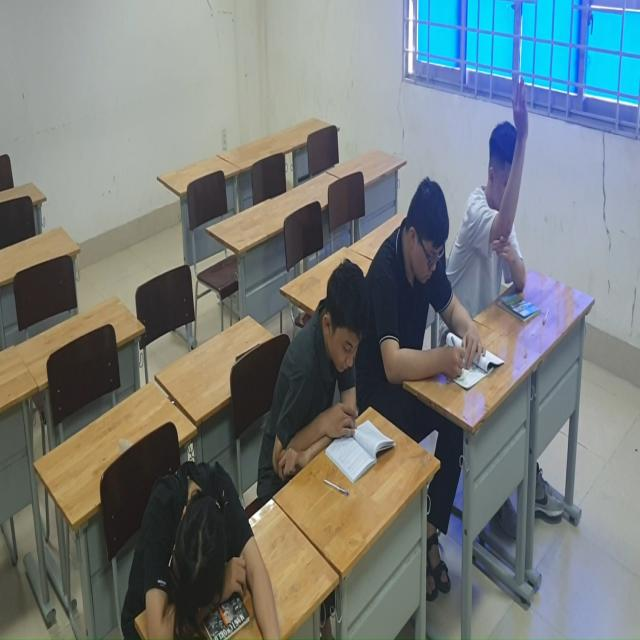raise_hand: (465, 71, 555, 331)
read: (266, 257, 400, 490), (377, 173, 505, 400)
sleep: (127, 450, 290, 640)
